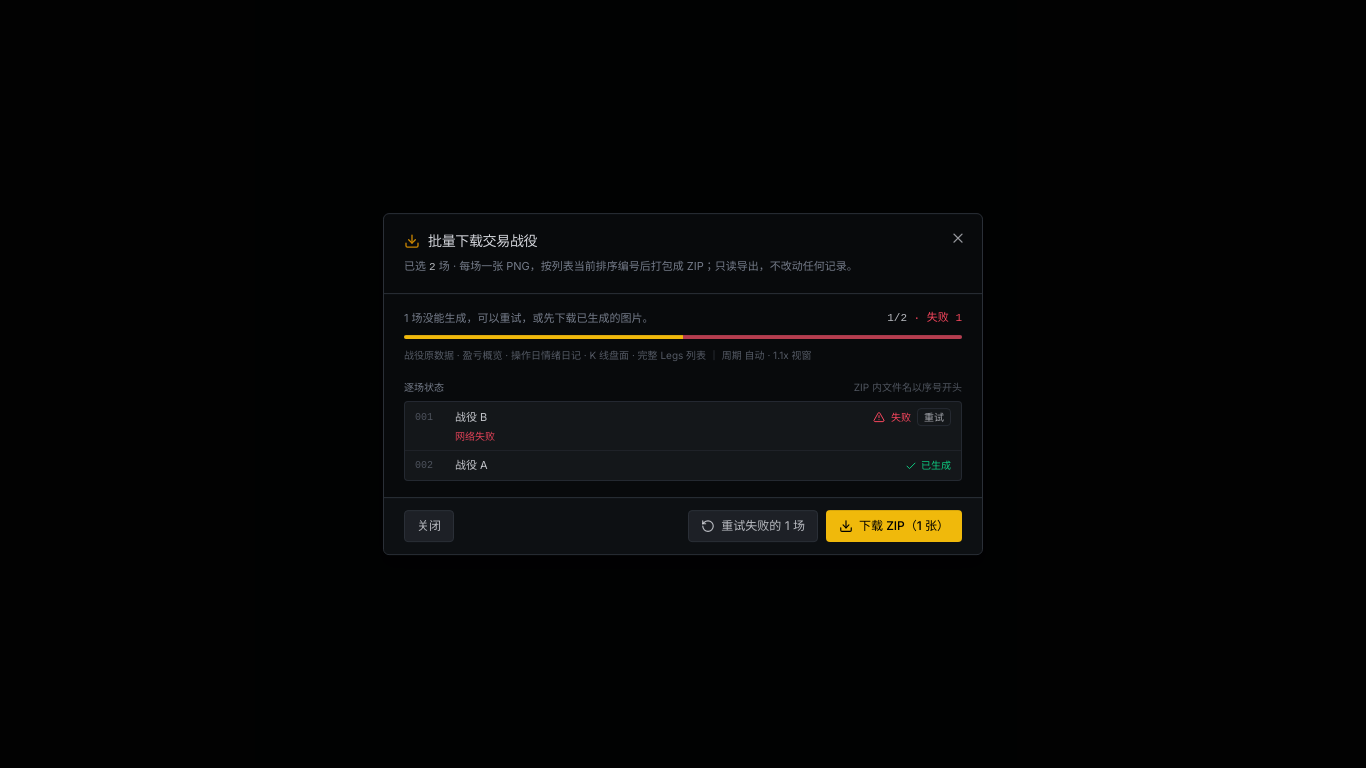
批量下载队列 › 已生成的图都下载过后，状态句不再劝「先下载已生成的图片」
Earlier steps of the test are not shown.
Click the button "下载 ZIP（1 张）": [894, 526] box [826,510,962,542]
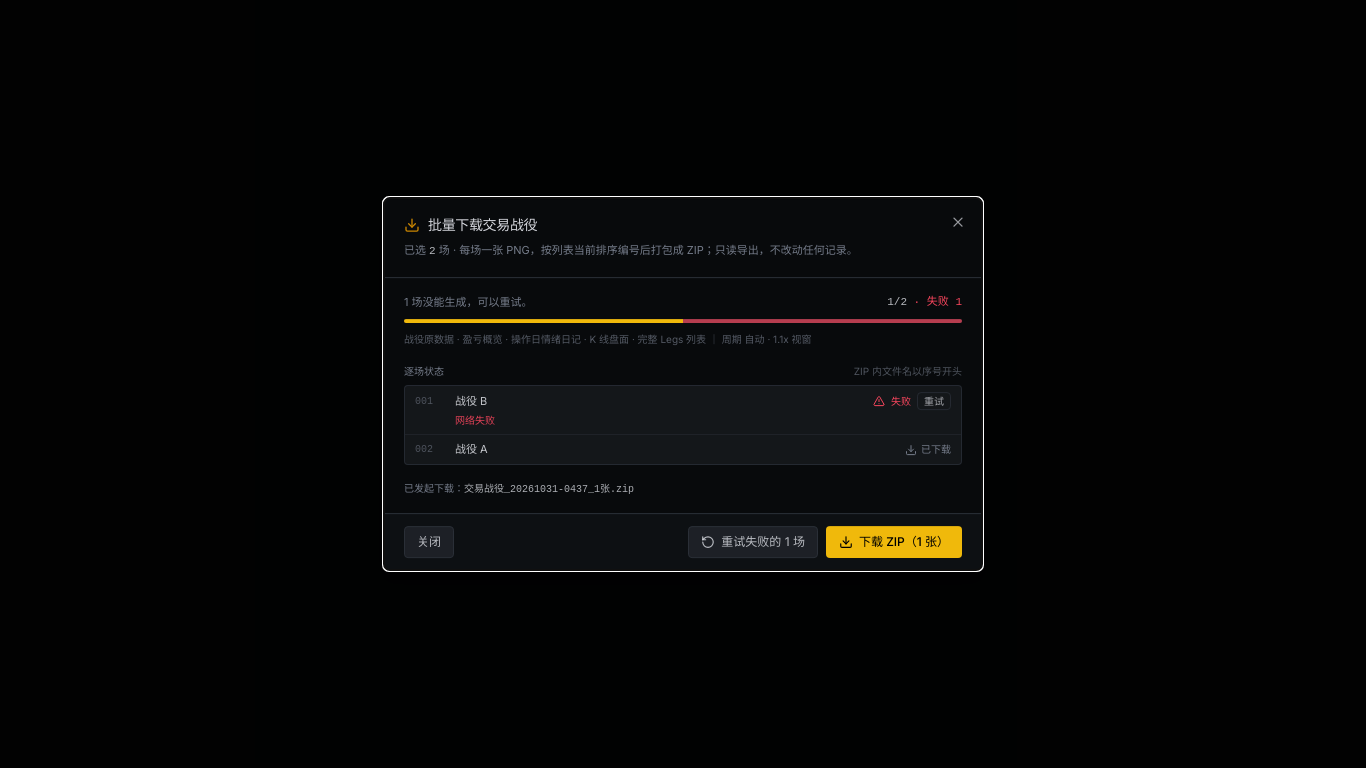
Now the message with test id "campaign-batch-status" reads "1 场没能生成，可以重试。", box [404,295,533,309]
Now the message with test id "campaign-batch-status" no longer shows "先下载", box [404,295,533,309]
